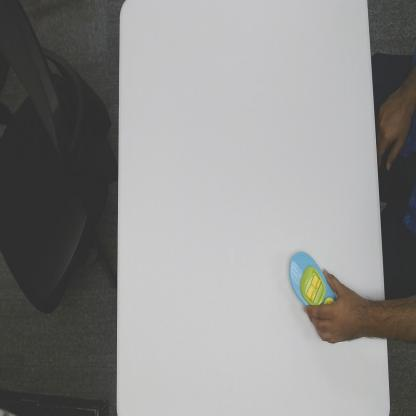Arm: (360, 298, 387, 342)
Boat: (288, 247, 339, 306)
Hand: (304, 268, 360, 346)
